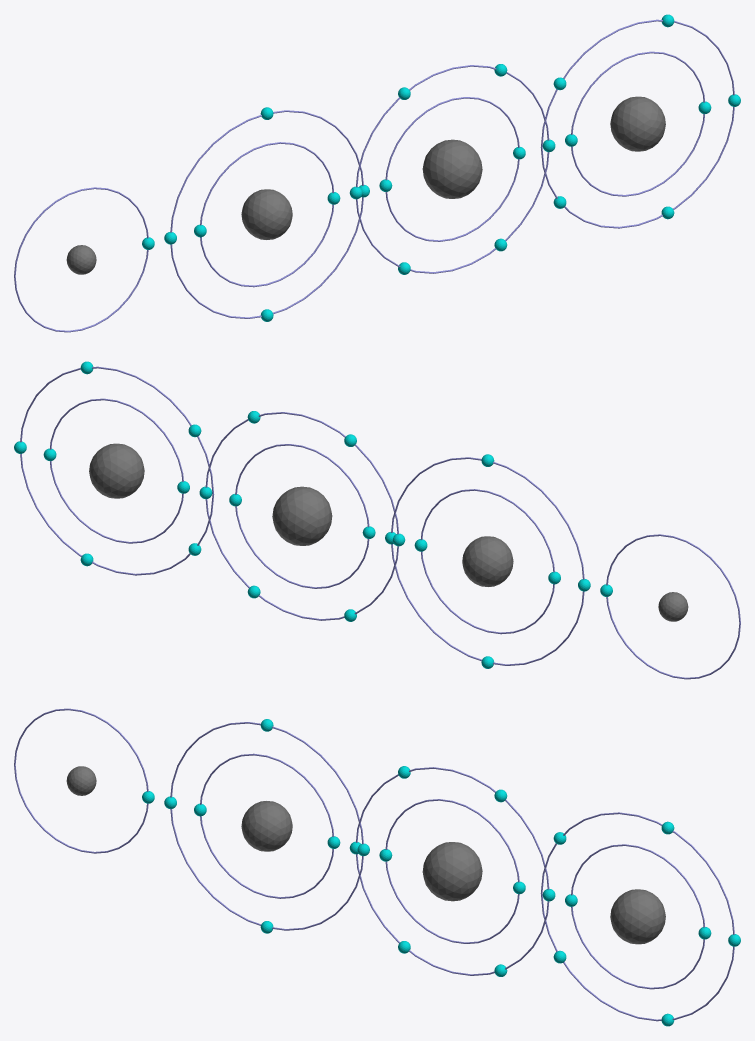
File: atom_models.glb
3 views of the same model, one above another, from view 1: azimuth 30°, elevation 25°; view 2: azimuth 150°, elevation 25°; view 3: azimuth 330°, elevation 25° (orthographic).
Parts seen in each view (by area): view 1: world; view 2: world; view 3: world.
Boxes of the visible parts, x1=… form: world: x1=14, y1=14, x2=740, y2=332; world: x1=14, y1=361, x2=740, y2=679; world: x1=14, y1=708, x2=740, y2=1026.
Size of the model in its own units: 19.57 by 5.5 by 1.4.
